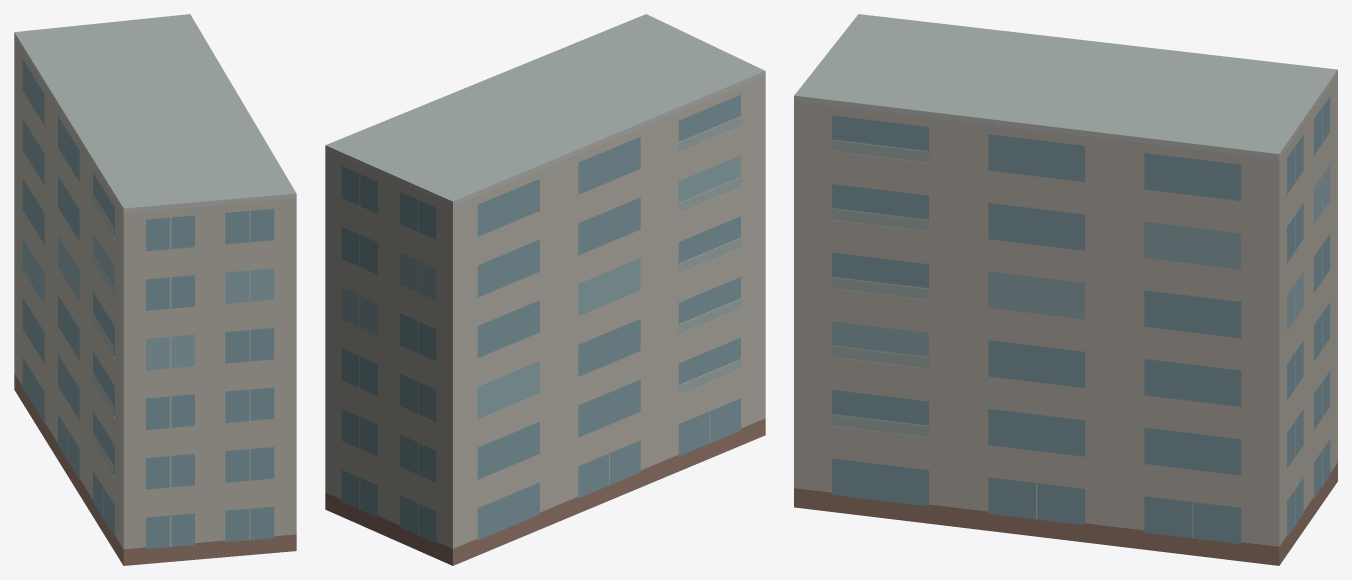
File: survey-upis-32877552.glb
3 renders of one model, left to right at view 1: azimuth 30°, elevation 25°; view 2: azimuth 150°, elevation 25°; view 3: azimuth 270°, elevation 25°, orthographic. The views are drawn at different scales.
Visible parts, largest first — view 1: survey-upis-32877552.tmp; view 2: survey-upis-32877552.tmp; view 3: survey-upis-32877552.tmp.
Part boxes in pixels (x1,y1,x2,y2): survey-upis-32877552.tmp: (14, 14, 296, 565); survey-upis-32877552.tmp: (325, 14, 765, 565); survey-upis-32877552.tmp: (794, 14, 1337, 565).
Size of the model in its own units: 13.36 by 18.3 by 21.91.
